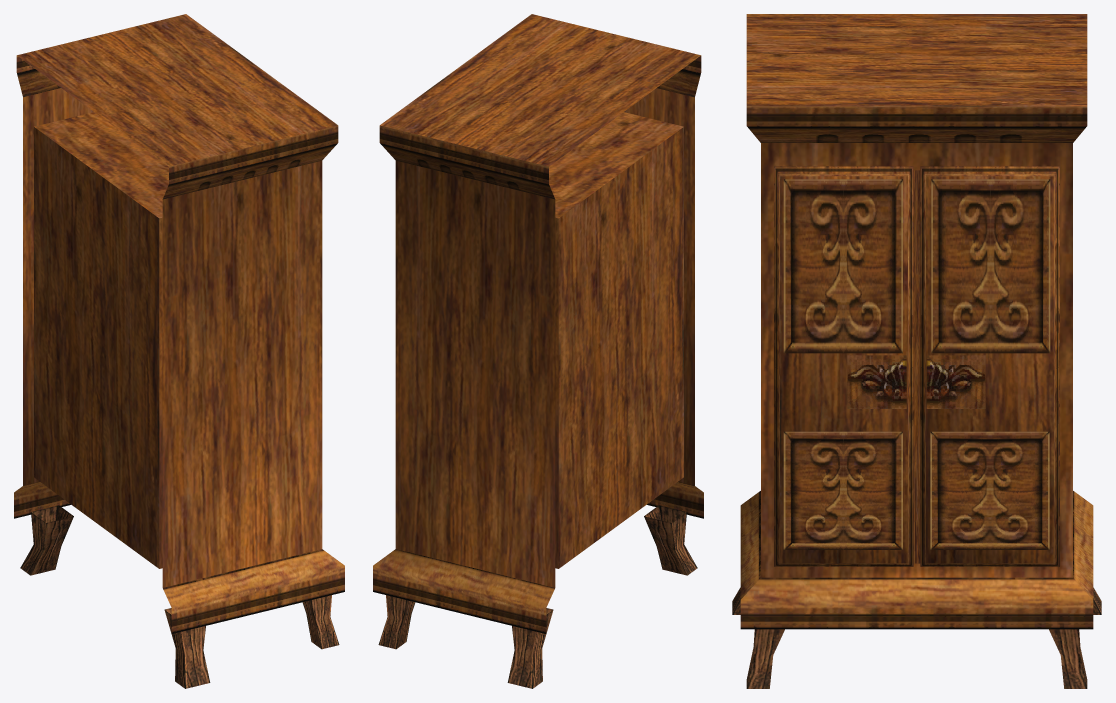
Rendered from INST_LT_WARDROPE.fbx.
3 views of the same model, side by side, from view 1: azimuth 30°, elevation 25°; view 2: azimuth 150°, elevation 25°; view 3: azimuth 270°, elevation 25° (orthographic). The views are drawn at different scales.
Parts seen in each view (by area): view 1: INST_LT_WARDROPE; view 2: INST_LT_WARDROPE; view 3: INST_LT_WARDROPE.
Part boxes in pixels (bbox=[...]): INST_LT_WARDROPE: bbox=[14, 14, 344, 688]; INST_LT_WARDROPE: bbox=[373, 14, 703, 688]; INST_LT_WARDROPE: bbox=[732, 14, 1101, 688].
Size of the model in its own units: 6373 by 18269 by 10514.
Materials: 5 (5 with a texture image).
